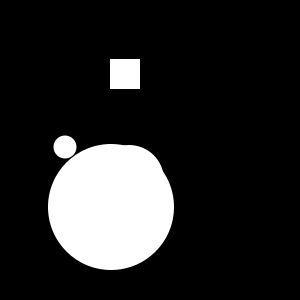circle: (110, 59, 140, 89), (139, 170, 159, 190)
rectangle: (48, 144, 174, 270), (94, 145, 164, 215), (54, 136, 76, 158)
